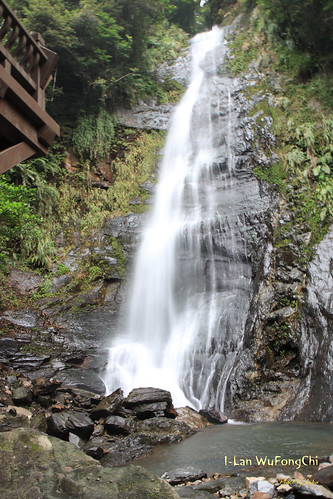wufengciWaterfall: (95, 23, 281, 407)
